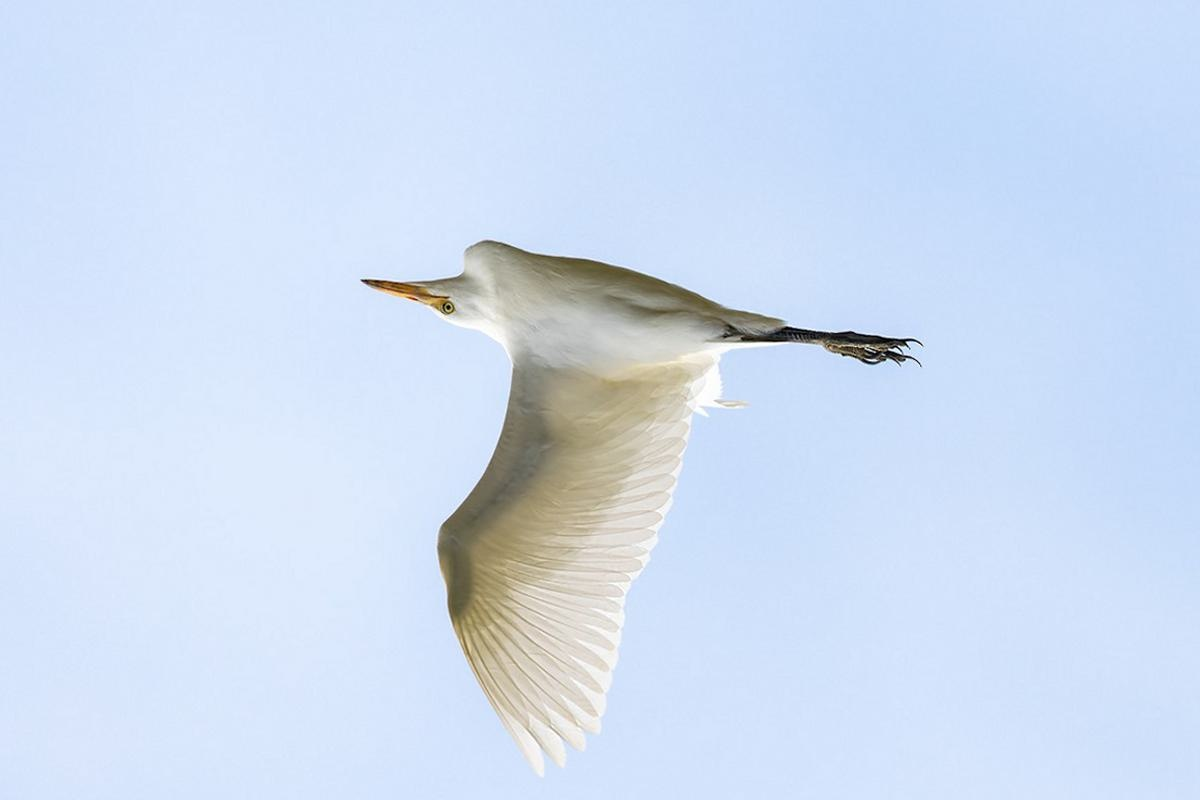egret: (327, 149, 990, 774)
